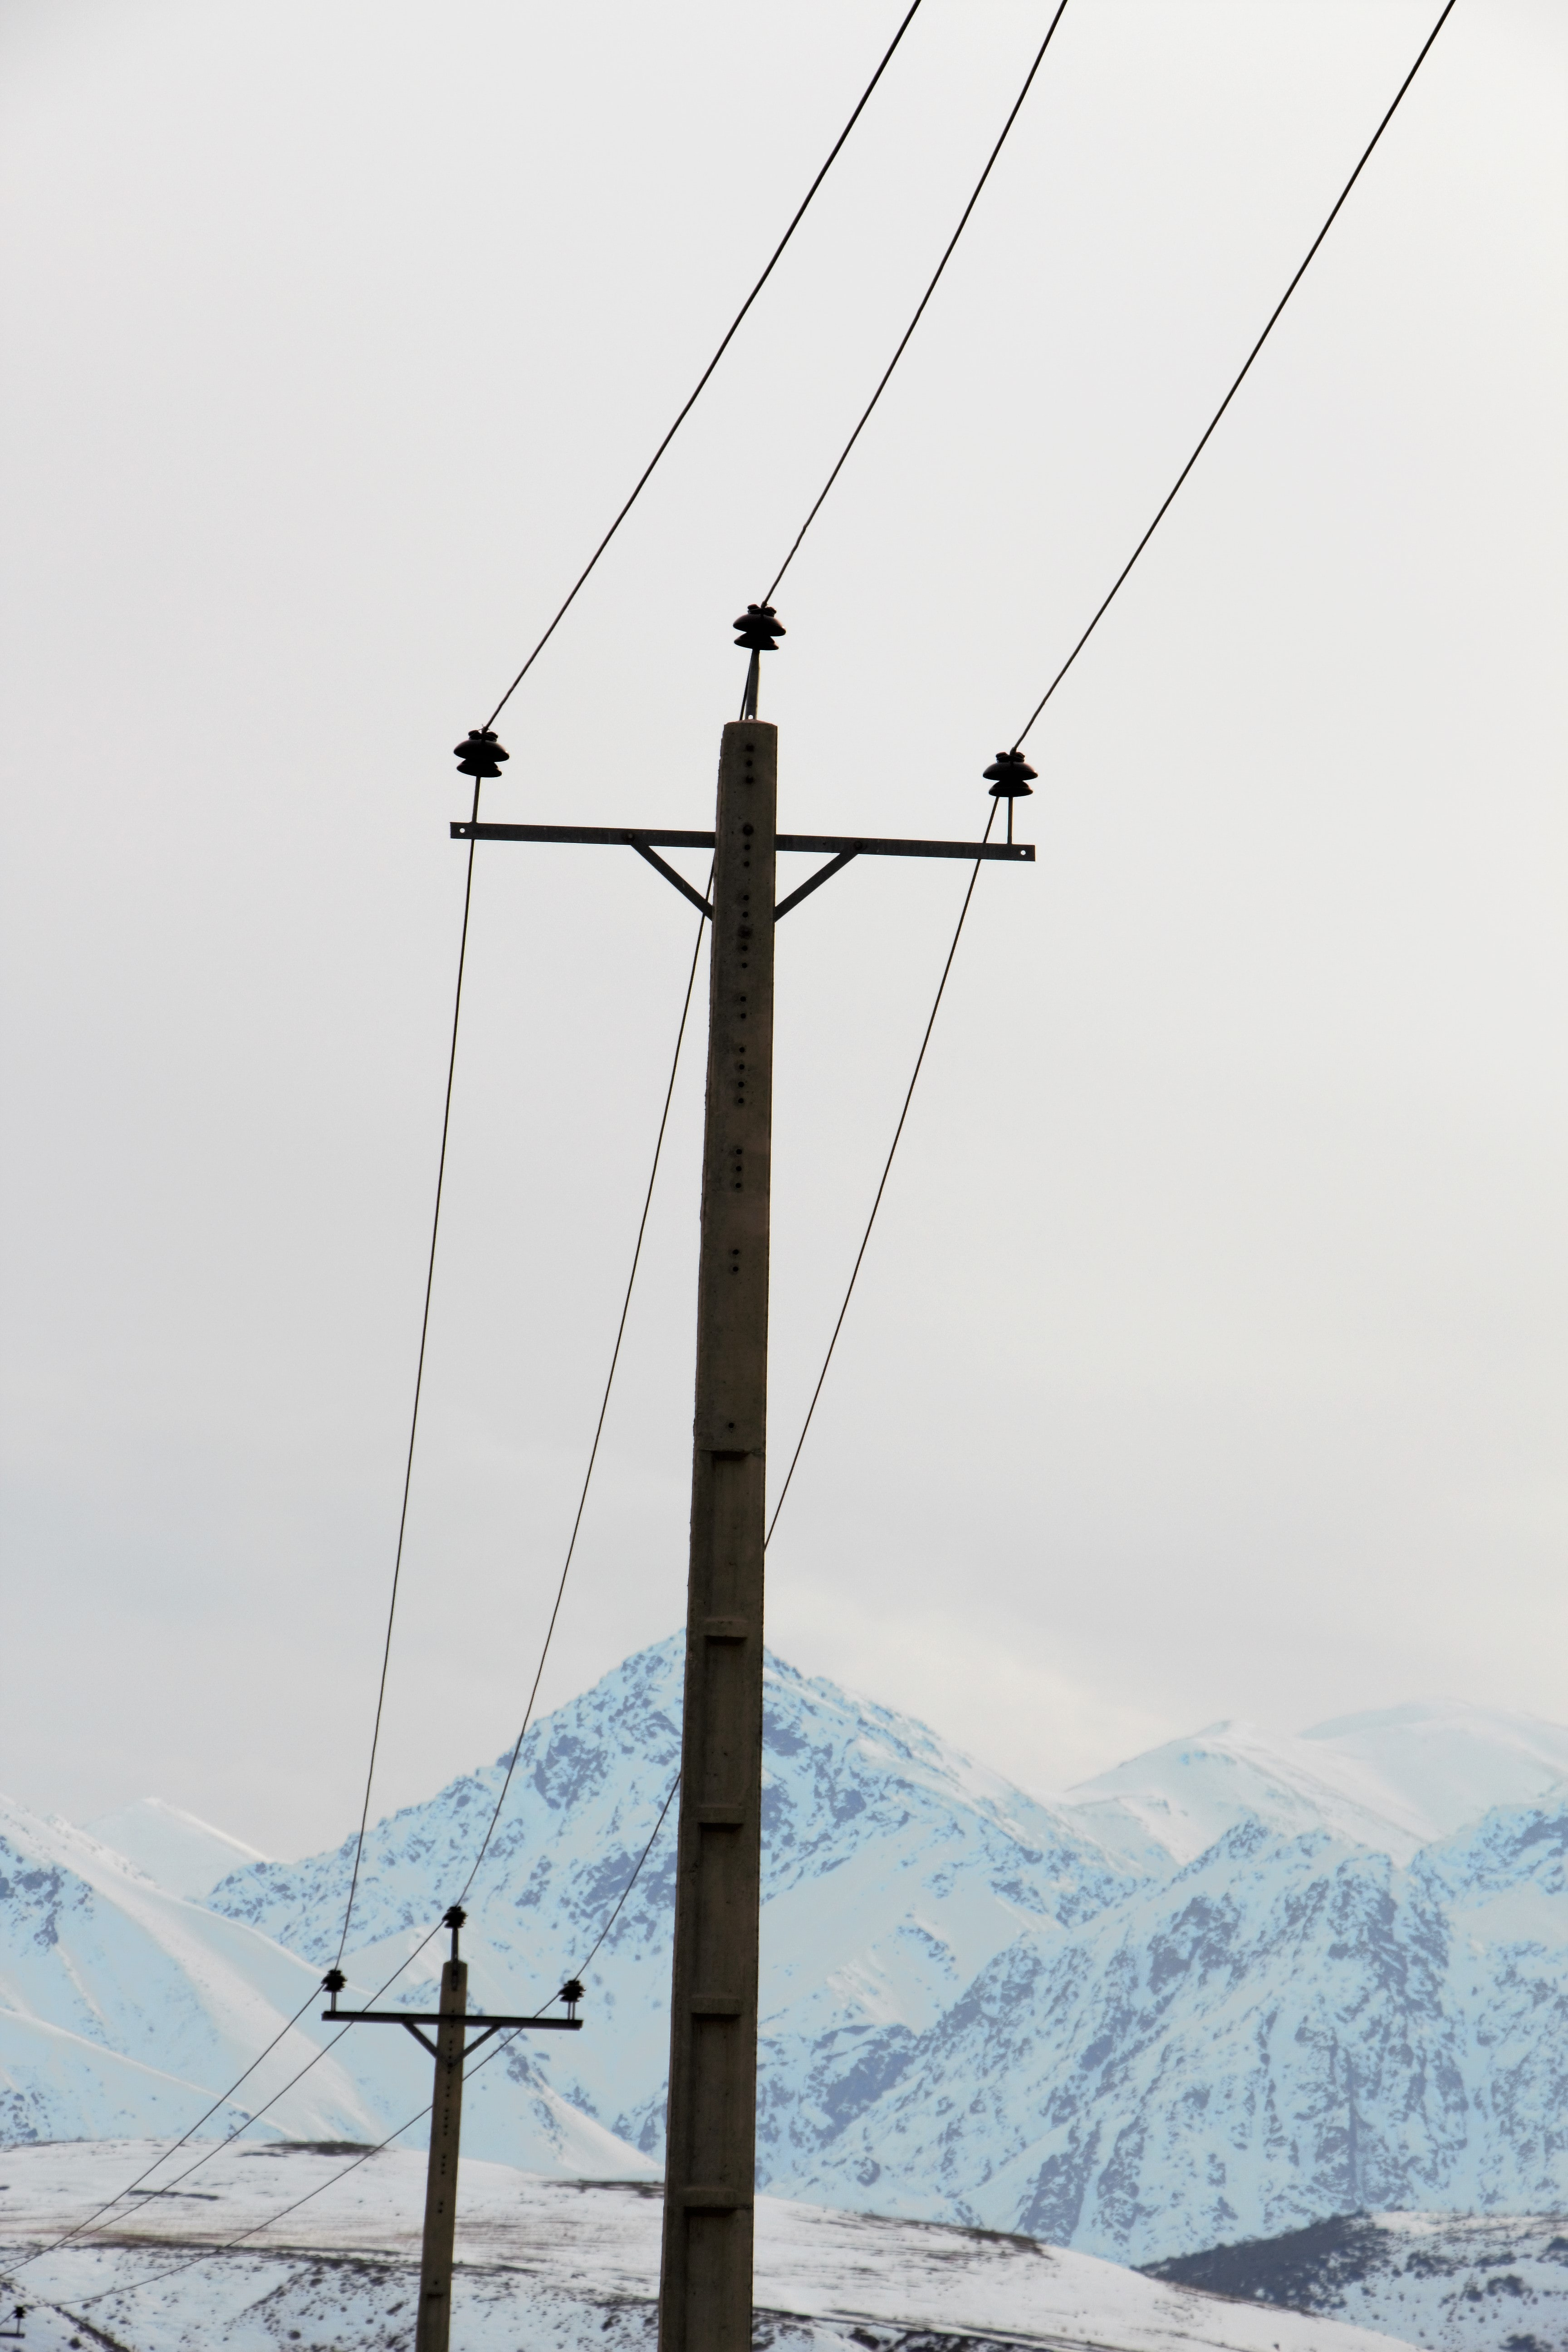utility_pole: (382, 571, 1064, 1120)
